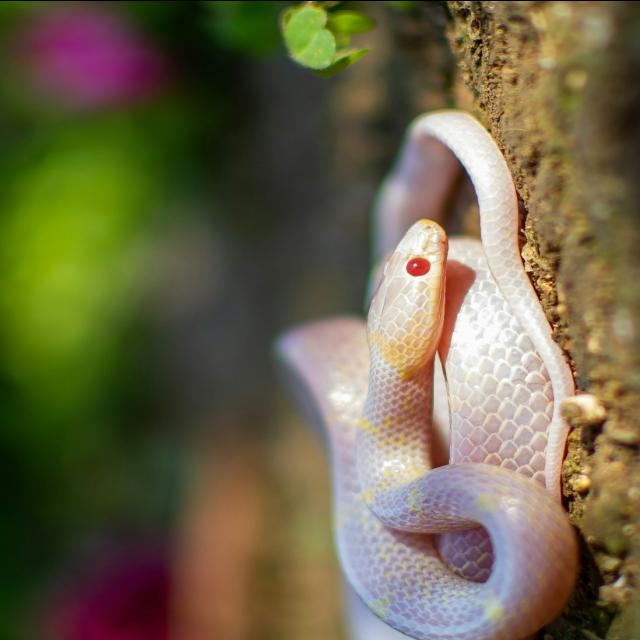snake: (273, 108, 581, 640)
